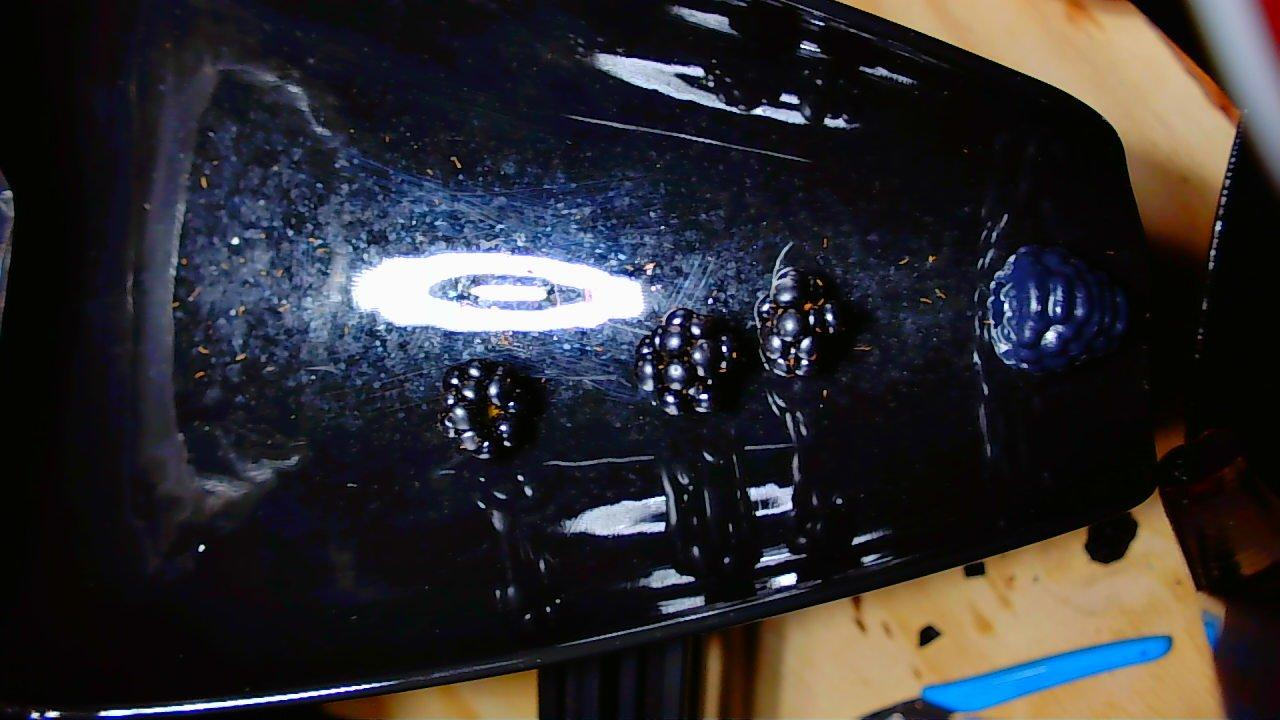berry: (984, 246, 1128, 373), (634, 308, 738, 415), (440, 359, 535, 458), (756, 267, 841, 377)
